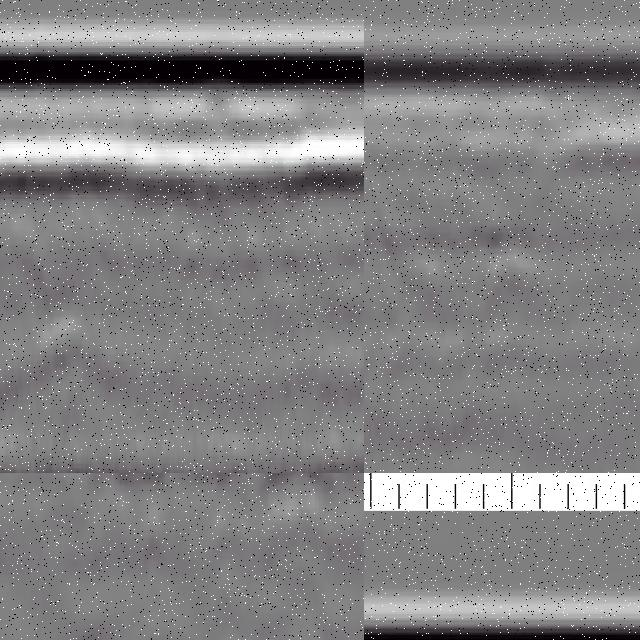loose: (58, 474, 361, 540)
